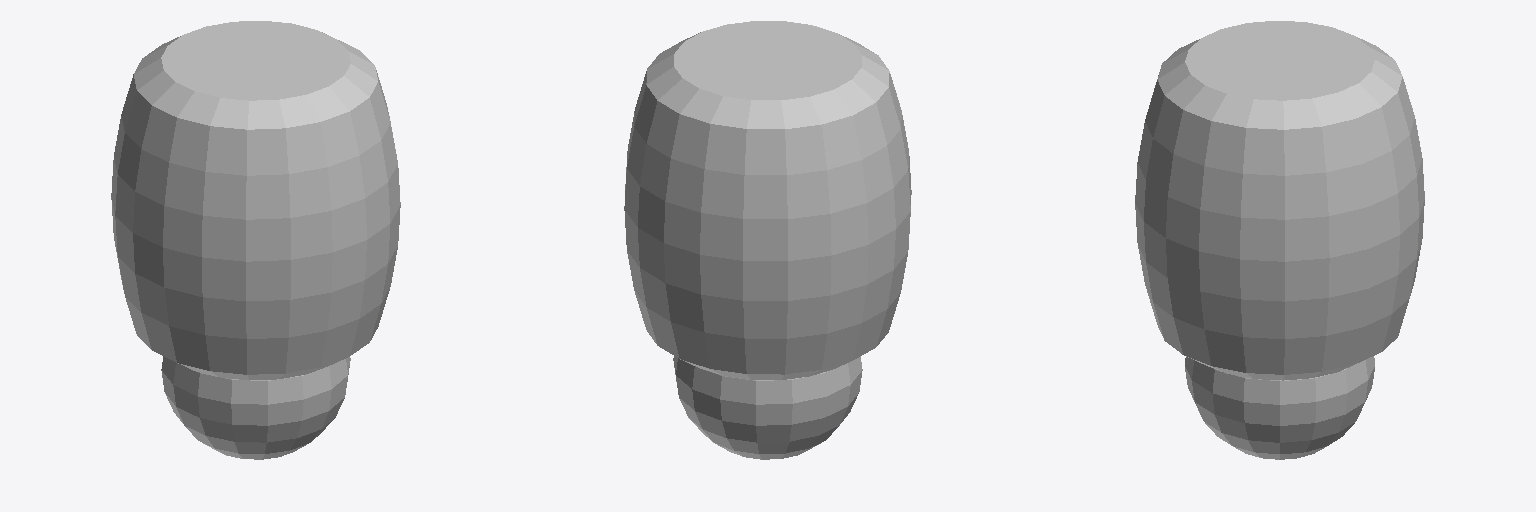
The model's file is piernaDerArr.obj.
3 views of the same model, side by side, from view 1: azimuth 30°, elevation 25°; view 2: azimuth 150°, elevation 25°; view 3: azimuth 270°, elevation 25° (orthographic).
Visible parts, largest first — view 1: BalloonBoy.007; view 2: BalloonBoy.007; view 3: BalloonBoy.007.
Boxes of the visible parts, box(x1,y1,x2,y2) form: BalloonBoy.007: box(111, 21, 400, 459); BalloonBoy.007: box(624, 21, 911, 459); BalloonBoy.007: box(1135, 21, 1424, 459).
Bounding box in the file's own units: 6.84 × 10.17 × 6.84.